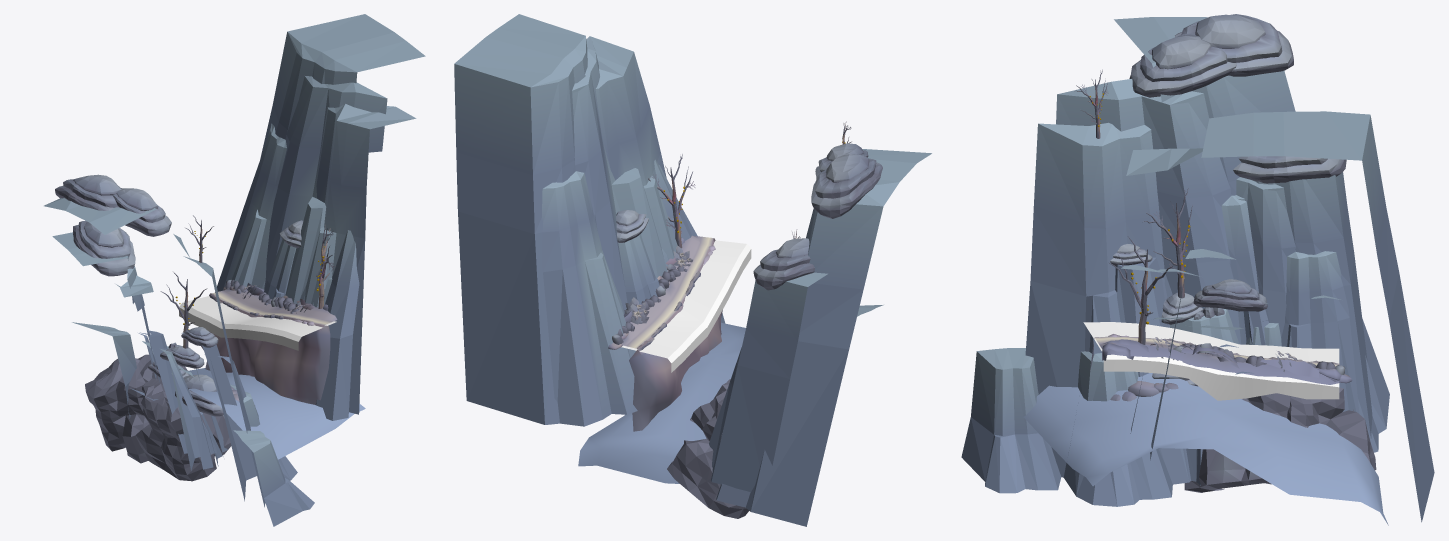
File: Arctic_Narrows_Left_Curve_Left_15_B.glb
The picture shows the model from 3 angles, left to right: view 1: azimuth 30°, elevation 25°; view 2: azimuth 150°, elevation 25°; view 3: azimuth 270°, elevation 25°; orthographic projection. The views are drawn at different scales.
Parts seen in each view (by area): view 1: Arctic_Narrows_Left_IceWall_A01 (1), Arctic_Narrows_Left_Curve_Left_15_B, Arctic_Narrows_Left_IceWall_A01_Left, Arctic_Narrows_Left_IceWall_A01_Right, Arctic_Narrows_Right_IceWall_A01 (1), Arctic_Narrows_Big_Rock_A01_Top (×2), Arctic_Narrows_Right_IceWall_A01_Left, Arctic_Narrows_Right_IceWall_A02 (1), inv_fill, Arctic_Narrows_Big_Rock_A01_Mid (×2), Arctic_Narrows_Right_Snow_A01_Top (×3), Arctic_Narrows_Big_Rock_A01 (2) (+9 smaller); view 2: Arctic_Narrows_Left_IceWall_A01 (1), Arctic_Narrows_Right_IceWall_A01 (1), Arctic_Narrows_Left_IceWall_A01_Left, Arctic_Narrows_Left_Curve_Left_15_B, Arctic_Narrows_Right_IceWall_A02 (1), inv_fill, Arctic_Narrows_Big_Rock_A01 (3), Arctic_Narrows_Left_IceWall_A01_Mid, Arctic_Narrows_Right_Snow_A01_Mid (×2), Arctic_Narrows_Right_Snow_A01 (9), Arctic_Narrows_Big_Rock_A01_Mid, Arctic_Narrows_Left_IceWall_A01_Right (+3 smaller); view 3: Arctic_Narrows_Right_IceWall_A01 (1), Arctic_Narrows_Left_Curve_Left_15_B, Arctic_Narrows_Left_IceWall_A01 (1), Arctic_Narrows_Right_IceWall_A01_Left, Arctic_Narrows_Right_IceWall_A02 (1), inv_fill, Arctic_Narrows_Right_IceWall_A02_Right, Arctic_Narrows_Right_IceWall_A01_Mid, Arctic_Narrows_Right_Snow_A01_Mid (×3), Arctic_Narrows_Right_Snow_A01_Top (×2), Arctic_Narrows_Big_Rock_A01_Mid, Arctic_Narrows_Big_Rock_A01 (2) (+7 smaller).
Part boxes in pixels (bbox=[...]): Arctic_Narrows_Left_IceWall_A01 (1): bbox=[260, 14, 425, 414]; Arctic_Narrows_Left_Curve_Left_15_B: bbox=[130, 283, 365, 459]; Arctic_Narrows_Left_IceWall_A01_Left: bbox=[215, 123, 286, 292]; Arctic_Narrows_Left_IceWall_A01_Right: bbox=[299, 230, 359, 420]; Arctic_Narrows_Right_IceWall_A01 (1): bbox=[44, 198, 265, 507]; Arctic_Narrows_Big_Rock_A01_Top (×2): bbox=[85, 354, 189, 435]; Arctic_Narrows_Right_IceWall_A01_Left: bbox=[230, 384, 314, 526]; Arctic_Narrows_Right_IceWall_A02 (1): bbox=[52, 232, 200, 470]; inv_fill: bbox=[179, 296, 336, 350]; Arctic_Narrows_Big_Rock_A01_Mid (×2): bbox=[93, 403, 210, 459]; Arctic_Narrows_Right_Snow_A01_Top (×3): bbox=[73, 174, 157, 247]; Arctic_Narrows_Big_Rock_A01 (2): bbox=[135, 415, 231, 481]; Arctic_Narrows_Left_IceWall_A01 (1): bbox=[454, 14, 677, 424]; Arctic_Narrows_Right_IceWall_A01 (1): bbox=[746, 149, 931, 526]; Arctic_Narrows_Left_IceWall_A01_Left: bbox=[542, 171, 637, 426]; Arctic_Narrows_Left_Curve_Left_15_B: bbox=[578, 235, 745, 483]; Arctic_Narrows_Right_IceWall_A02 (1): bbox=[711, 272, 827, 491]; inv_fill: bbox=[621, 240, 751, 372]; Arctic_Narrows_Big_Rock_A01 (3): bbox=[667, 440, 748, 518]; Arctic_Narrows_Left_IceWall_A01_Mid: bbox=[618, 234, 659, 303]; Arctic_Narrows_Right_Snow_A01_Mid (×2): bbox=[760, 158, 876, 271]; Arctic_Narrows_Right_Snow_A01 (9): bbox=[811, 162, 882, 218]; Arctic_Narrows_Big_Rock_A01_Mid: bbox=[685, 403, 721, 472]; Arctic_Narrows_Left_IceWall_A01_Right: bbox=[654, 160, 725, 323]; Arctic_Narrows_Right_IceWall_A01 (1): bbox=[1025, 17, 1389, 484]; Arctic_Narrows_Left_Curve_Left_15_B: bbox=[1023, 334, 1388, 525]; Arctic_Narrows_Left_IceWall_A01 (1): bbox=[1126, 111, 1434, 522]; Arctic_Narrows_Right_IceWall_A01_Left: bbox=[961, 348, 1172, 506]; Arctic_Narrows_Right_IceWall_A02 (1): bbox=[1235, 172, 1372, 438]; inv_fill: bbox=[1083, 322, 1339, 400]; Arctic_Narrows_Right_IceWall_A02_Right: bbox=[1281, 251, 1359, 413]; Arctic_Narrows_Right_IceWall_A01_Mid: bbox=[1170, 195, 1268, 485]; Arctic_Narrows_Right_Snow_A01_Mid (×3): bbox=[1140, 14, 1327, 168]; Arctic_Narrows_Right_Snow_A01_Top (×2): bbox=[1152, 14, 1265, 69]; Arctic_Narrows_Big_Rock_A01_Mid: bbox=[1284, 387, 1364, 434]; Arctic_Narrows_Big_Rock_A01 (2): bbox=[1184, 449, 1268, 492].
Bounding box in the file's own units: 24.34 × 23.75 × 20.83.
